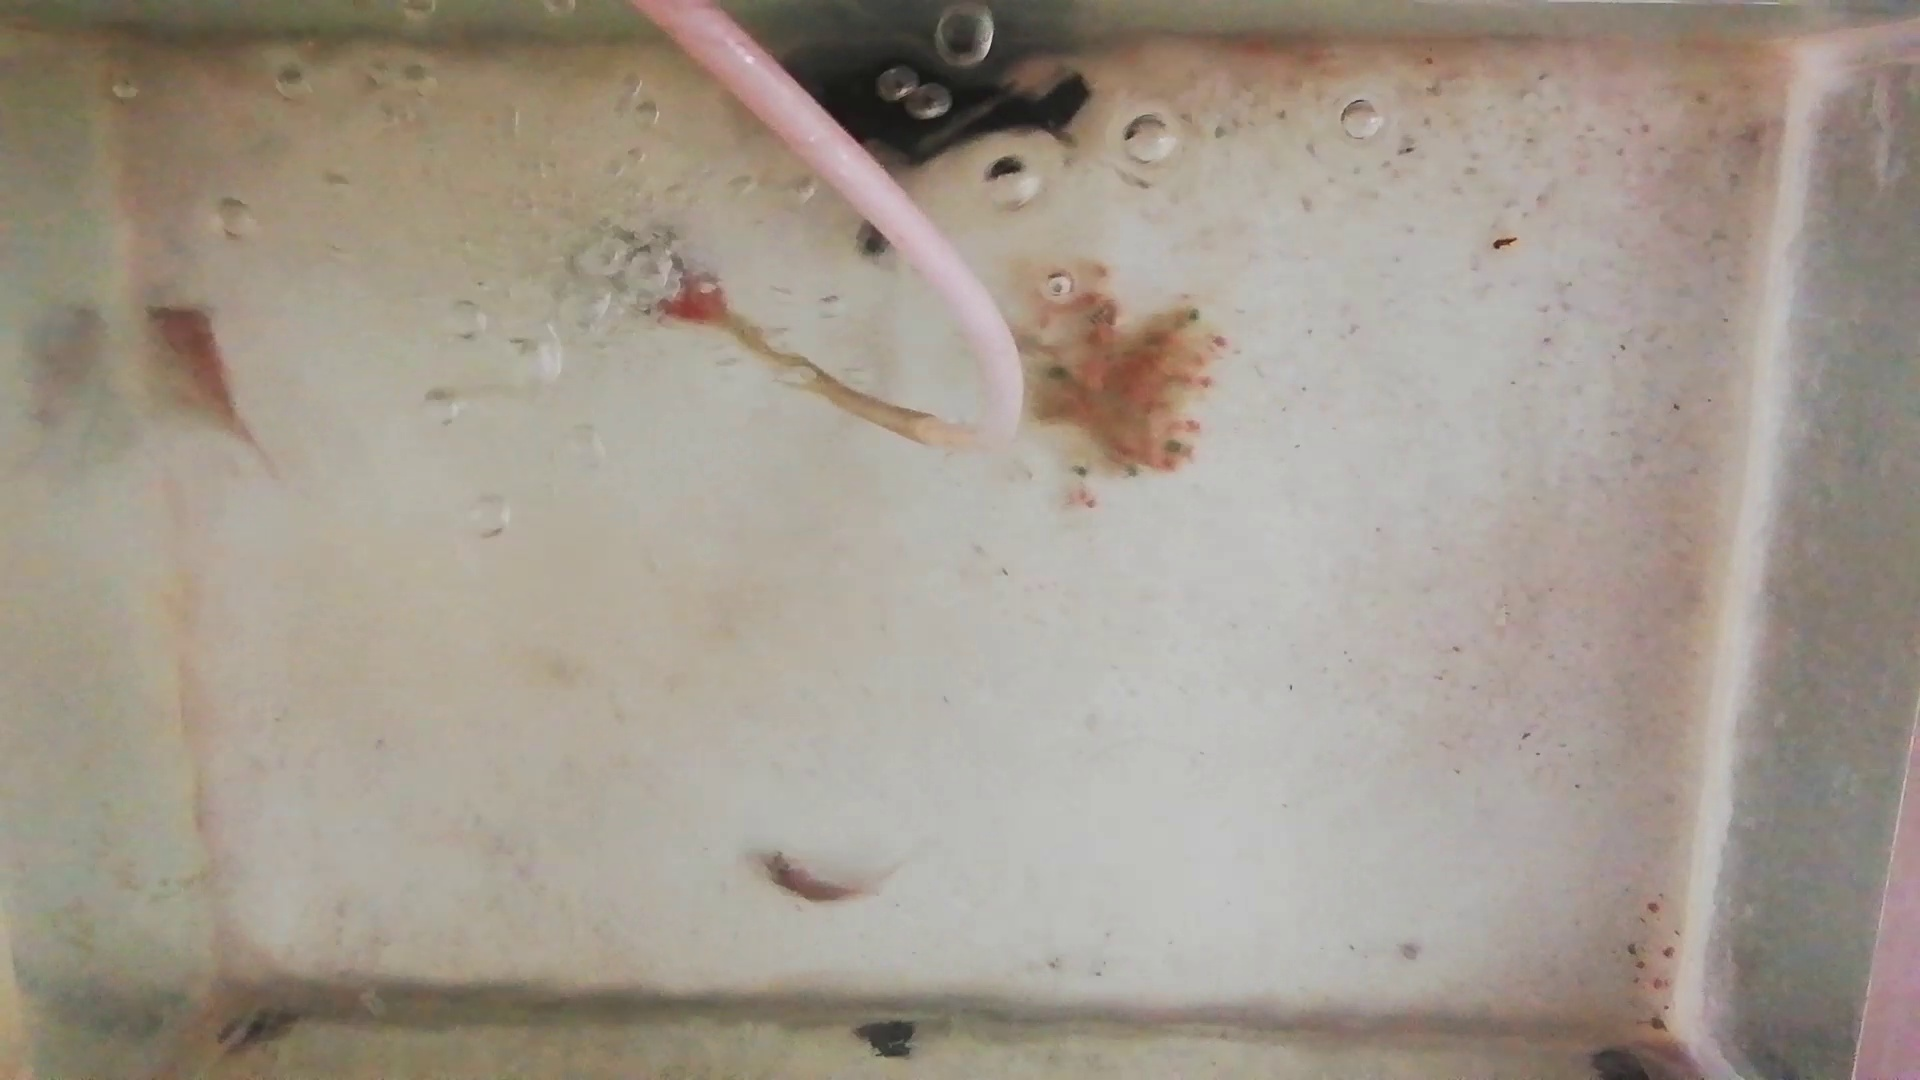fish: (145, 298, 251, 440), (760, 853, 866, 903)
